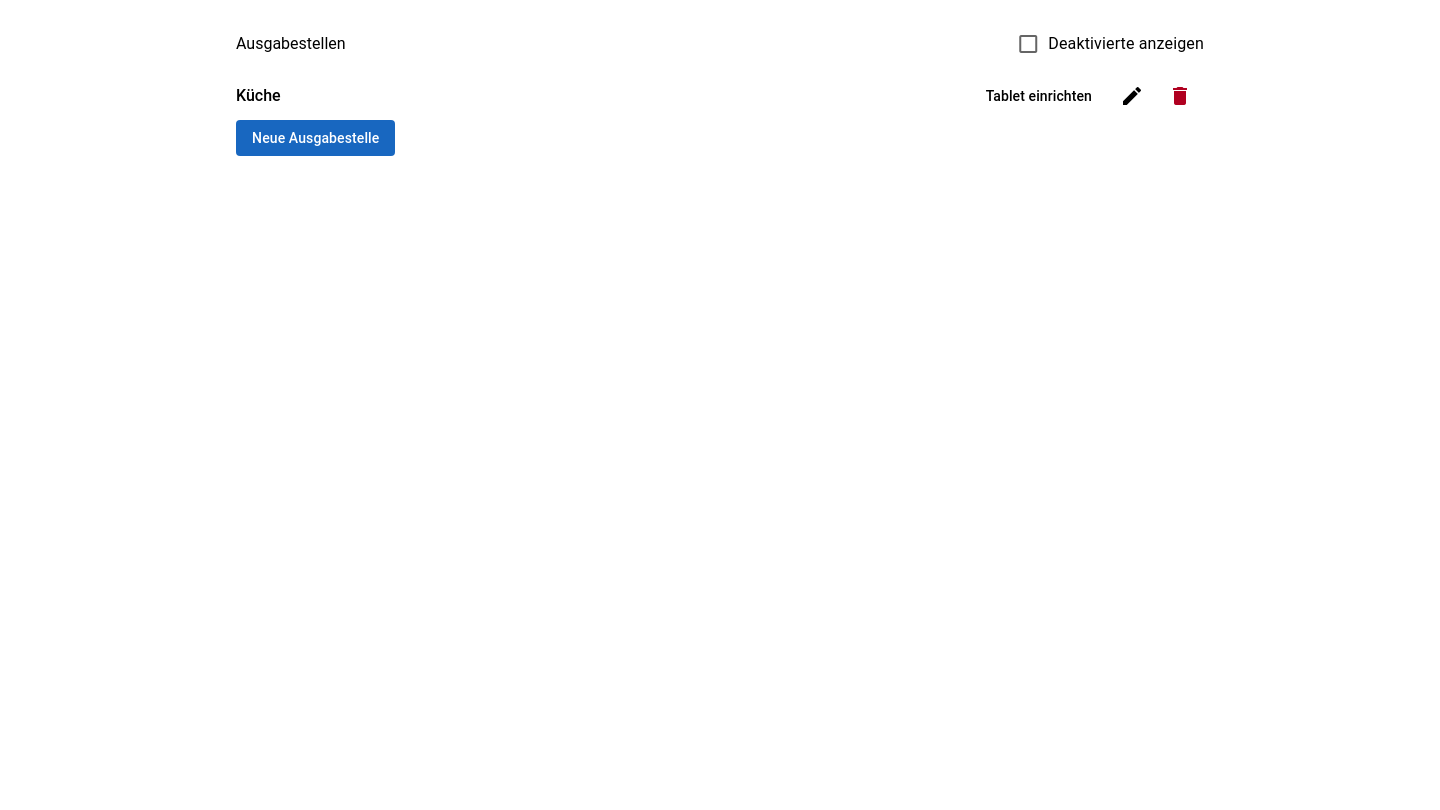
Test: a rename the laptop refuses › says why the new name was not taken
This screenshot has width=1440, height=810.
Expected: the element with test id "station-row" is shown, [236,72,1204,120]
Click the button with test id "edit" at (1132, 96), box [1108,72,1156,120]
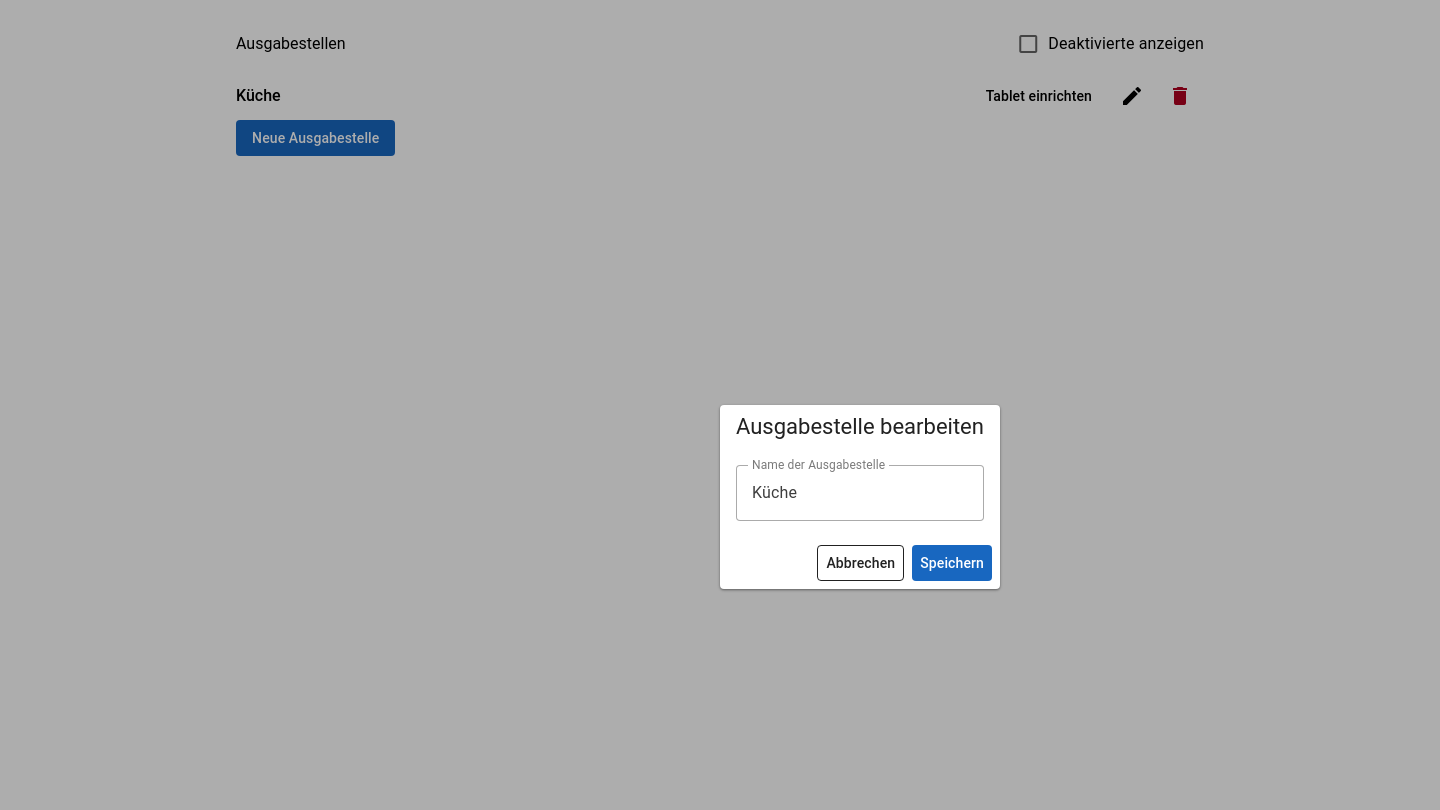
Result: the element with test id "station-name-field" is shown
Replace the text in the field labelled "Name der Ausgabestelle" with "Küche hinten" at (860, 493), box [736,465,984,521]
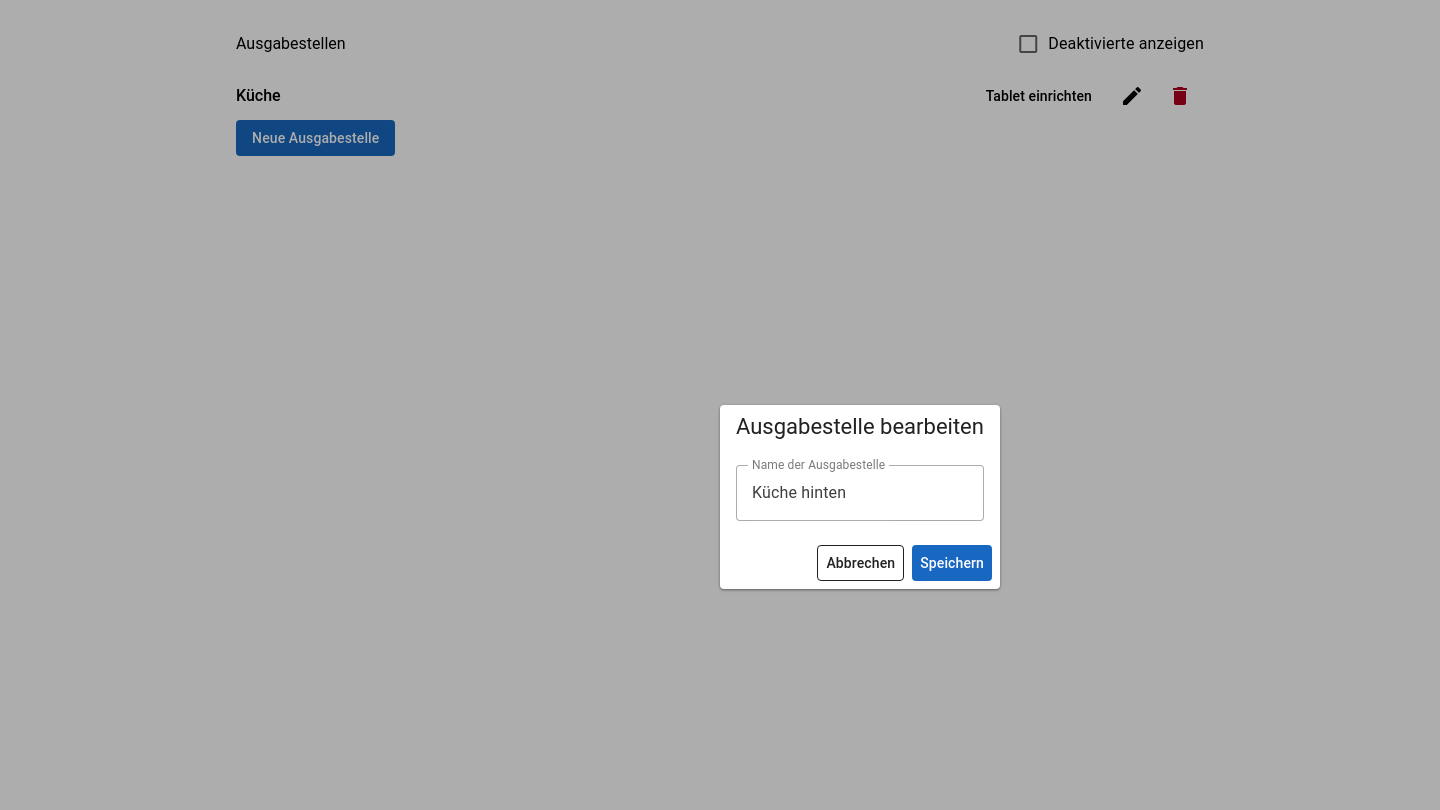
Click the button with test id "form-save" at (952, 563), box [912,545,992,581]
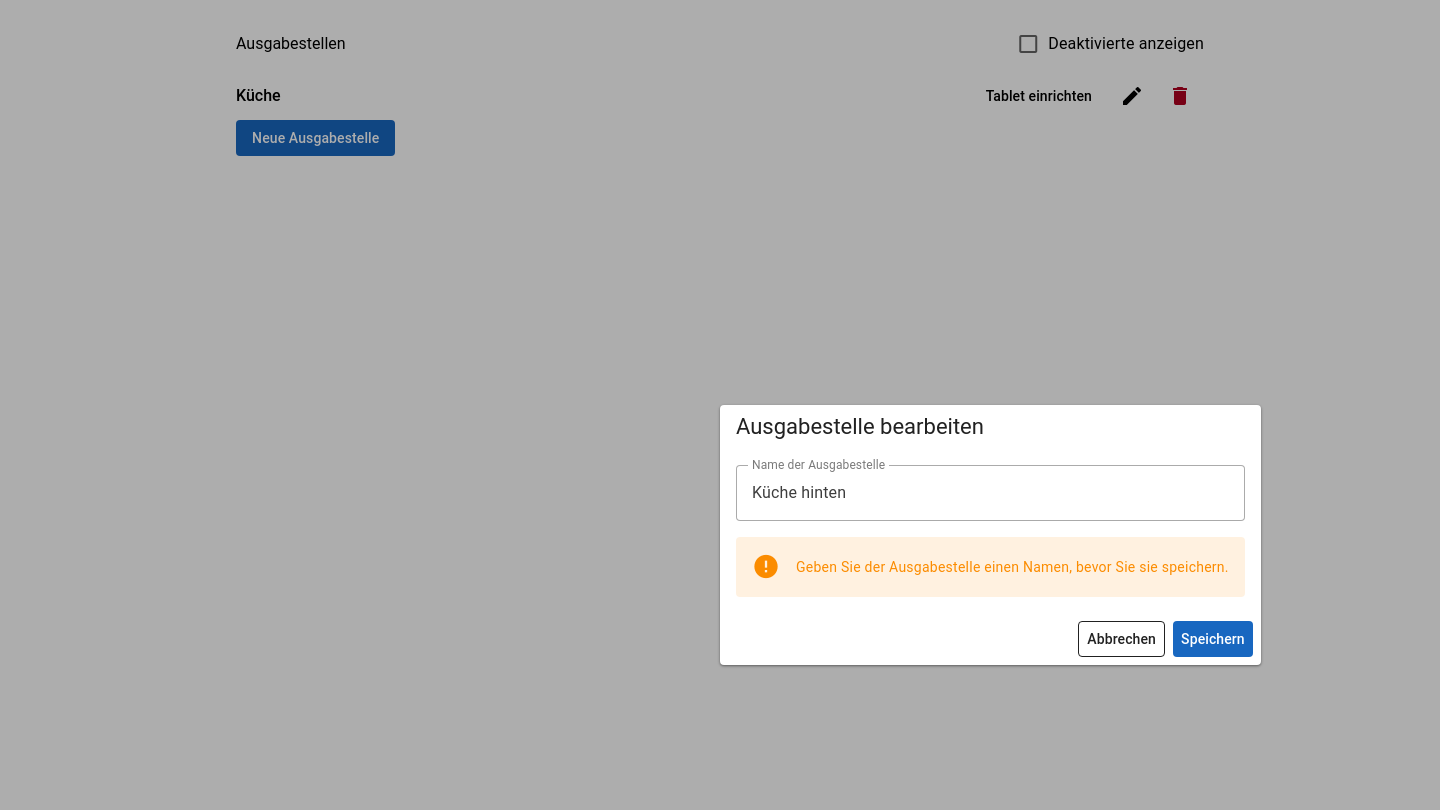
Result: the 2nd element with test id "refusal" is shown at [736,537,1245,597]
Result: the element with test id "refusal" reads "Geben Sie der Ausgabestelle einen Namen, bevor Sie sie speichern." at [796,559,1229,575]
